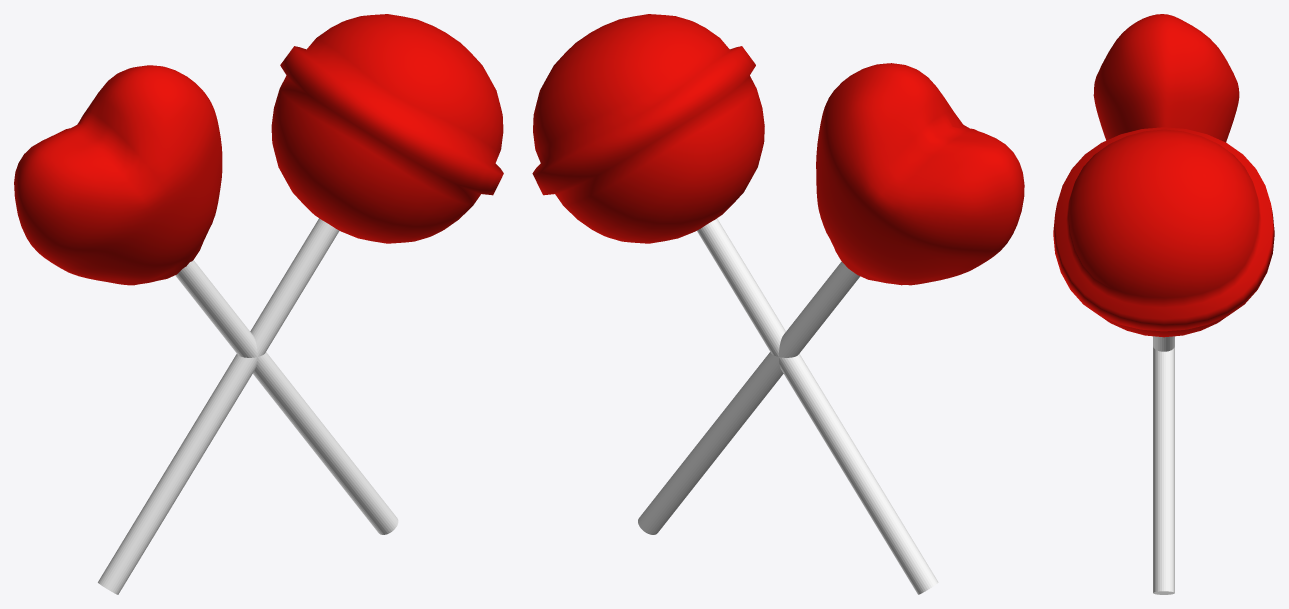
Rendered from heart_shaped_candy.glb.
The picture shows the model from 3 angles, left to right: view 1: azimuth 30°, elevation 25°; view 2: azimuth 150°, elevation 25°; view 3: azimuth 270°, elevation 25°; orthographic projection. The views are drawn at different scales.
Visible parts, largest first — view 1: circle candy _1, Cube.001_3, Cylinder_2, Cylinder.001_4; view 2: circle candy _1, Cube.001_3, Cylinder_2, Cylinder.001_4; view 3: circle candy _1, Cube.001_3, Cylinder.001_4, Cylinder_2.
Boxes of the visible parts, x1,y1,x2,y2 form: circle candy _1: (271,14,503,243); Cube.001_3: (14,65,222,285); Cylinder_2: (98,218,339,594); Cylinder.001_4: (175,260,398,534); circle candy _1: (532,14,764,243); Cube.001_3: (816,63,1024,285); Cylinder_2: (697,218,938,594); Cylinder.001_4: (638,261,859,534); circle candy _1: (1053,127,1274,337); Cube.001_3: (1093,14,1239,142); Cylinder.001_4: (1153,346,1174,594); Cylinder_2: (1153,336,1174,351).
Size of the model in its own units: 3.9 by 4.16 by 1.76.
